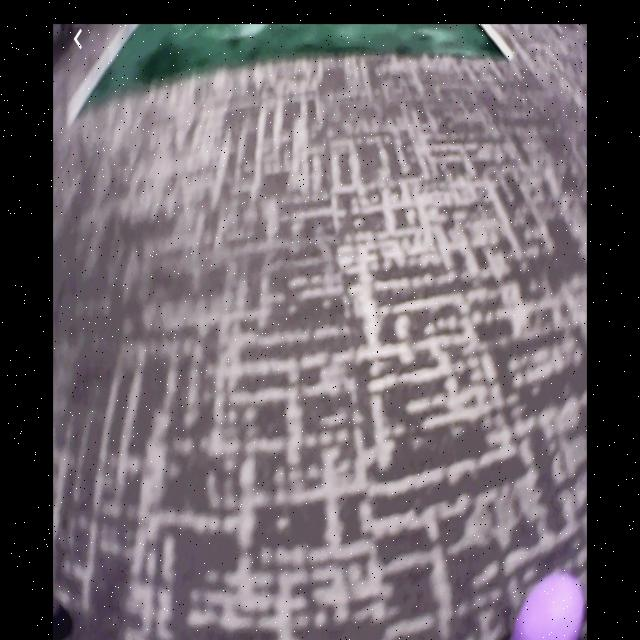ball: (517, 570, 586, 640)
